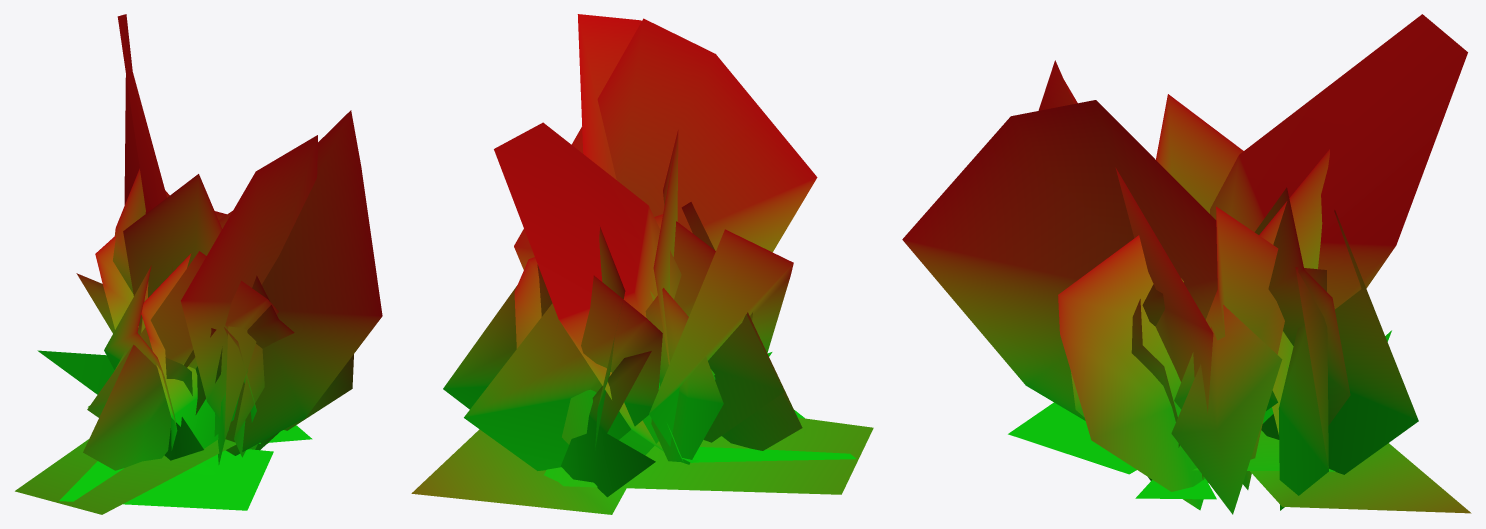
File: Kikuyu Grass_LOD5_Var12_wiljearqx.fbx
3 views of the same model, side by side, from view 1: azimuth 30°, elevation 25°; view 2: azimuth 150°, elevation 25°; view 3: azimuth 270°, elevation 25° (orthographic). The views are drawn at different scales.
Parts seen in each view (by area): view 1: _07up_Var12_LOD5; view 2: _07up_Var12_LOD5; view 3: _07up_Var12_LOD5.
Boxes of the visible parts, box(x1,y1,x2,y2) form: _07up_Var12_LOD5: box(15, 14, 382, 514); _07up_Var12_LOD5: box(411, 14, 873, 514); _07up_Var12_LOD5: box(902, 14, 1471, 514).
Bounding box in the file's own units: 34.2 × 38.65 × 42.62.
